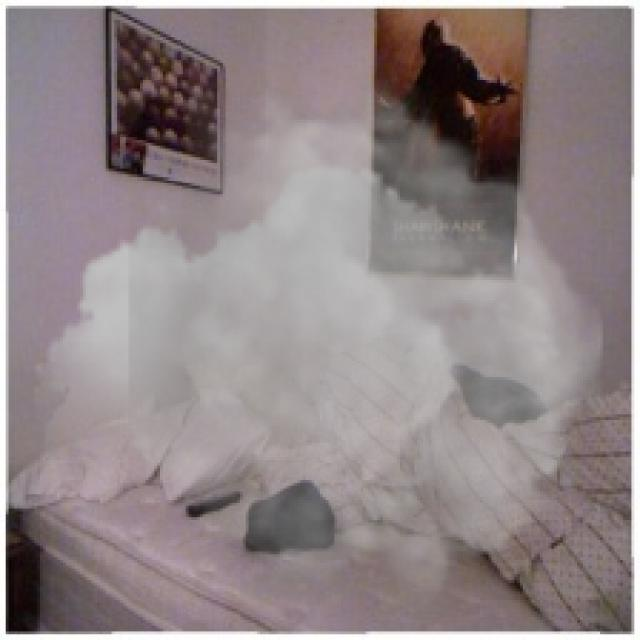smoke: (34, 63, 603, 620)
